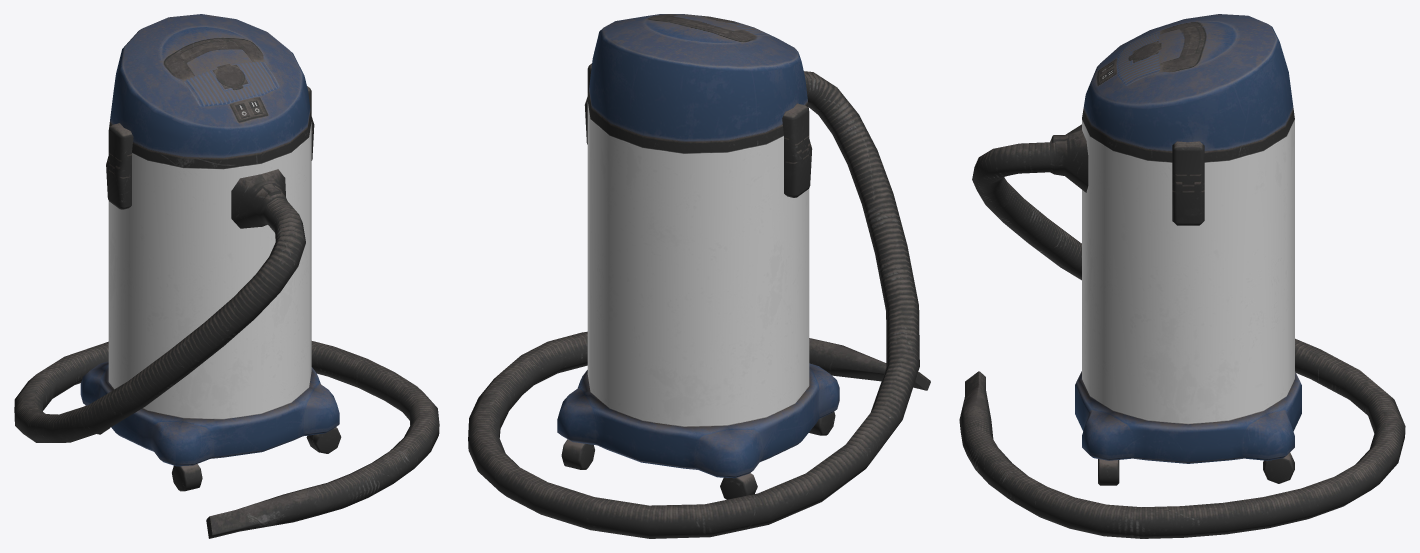
Rendered from obj_vacuum_cleaner_9043d7.glb.
3 renders of one model, left to right at view 1: azimuth 30°, elevation 25°; view 2: azimuth 150°, elevation 25°; view 3: azimuth 270°, elevation 25°, orthographic. The views are drawn at different scales.
Parts seen in each view (by area): view 1: obj_vacuum_cleaner_9043d7; view 2: obj_vacuum_cleaner_9043d7; view 3: obj_vacuum_cleaner_9043d7.
Boxes of the visible parts, left/top/right/bottom form: obj_vacuum_cleaner_9043d7: left=14, top=14, right=439, bottom=538; obj_vacuum_cleaner_9043d7: left=468, top=14, right=930, bottom=538; obj_vacuum_cleaner_9043d7: left=959, top=14, right=1405, bottom=538.
Bounding box in the file's own units: 0.7681 × 0.8 × 0.7855.
1 material, 1 textured.
